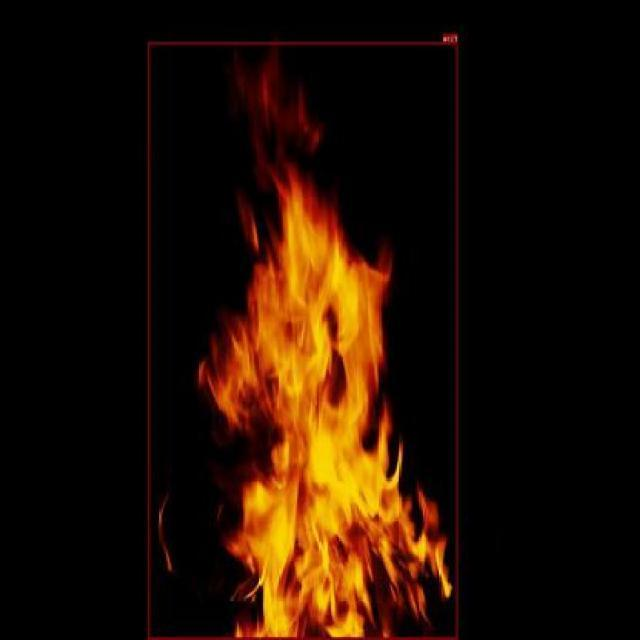Fire: (148, 41, 458, 640)
